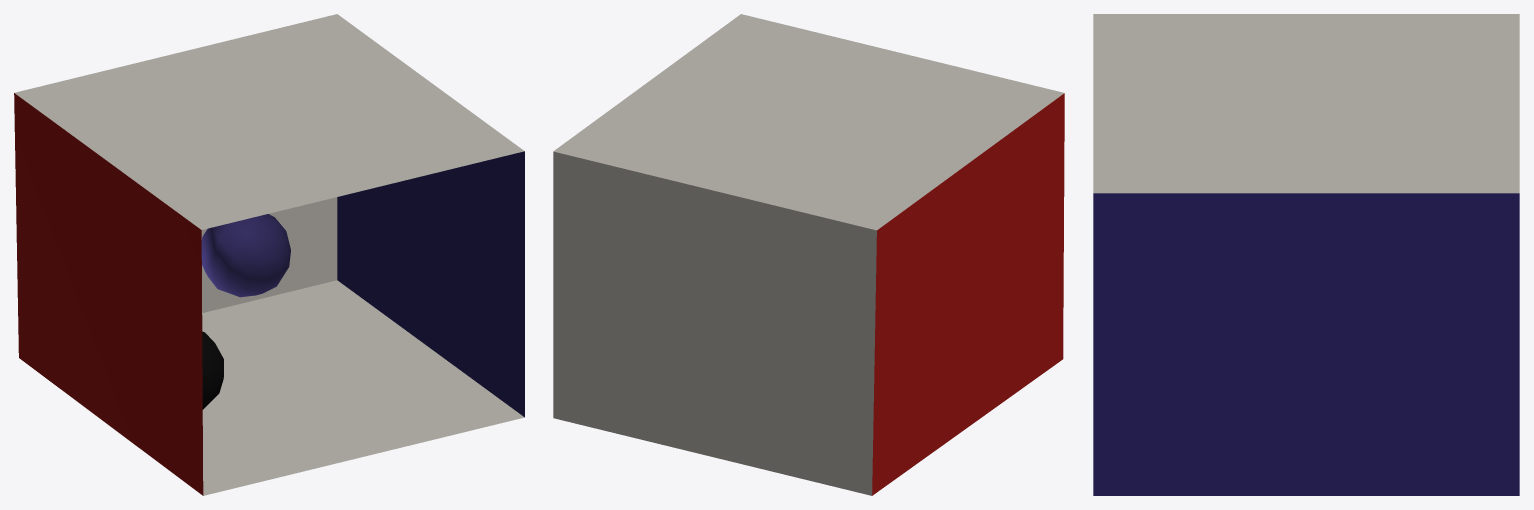
File: CornellBox-Sphere-1071.obj
3 renders of one model, left to right at view 1: azimuth 30°, elevation 25°; view 2: azimuth 150°, elevation 25°; view 3: azimuth 270°, elevation 25°, orthographic. The views are drawn at different scales.
Visible parts, largest first — view 1: ceiling, leftWall, floor, rightWall, leftSphere, backWall, rightSphere; view 2: backWall, ceiling, leftWall; view 3: rightWall, ceiling.
Boxes of the visible parts, x1,y1,x2,y2 form: ceiling: (14,14,524,229); leftWall: (14,93,203,495); floor: (202,280,524,495); rightWall: (337,151,524,417); leftSphere: (201,214,290,297); backWall: (201,197,337,312); rightSphere: (202,331,223,409); backWall: (553,151,876,495); ceiling: (553,14,1064,230); leftWall: (872,93,1064,495); rightWall: (1093,193,1519,495); ceiling: (1093,14,1519,193).
Bounding box in the file's own units: 2.02 × 1.59 × 2.03.
